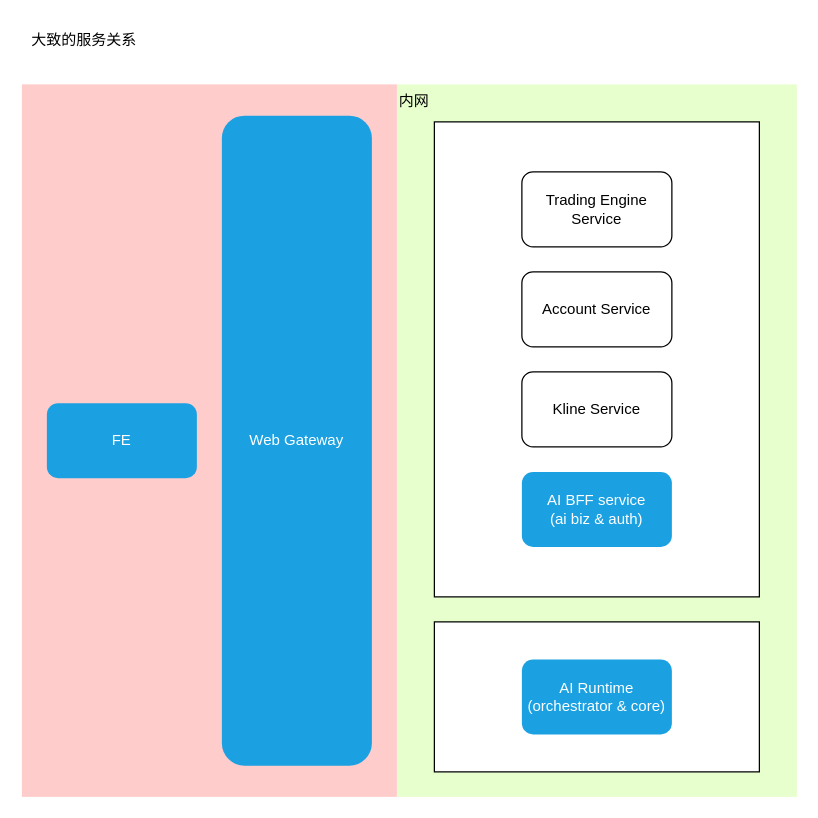
Some shapes in this 818 by 818 pixel diagram are drawn without their labels. The shapes that lost their labels are listed below. From the top down, each one's box as (x1, y1, x2, y2) in pixels, then its label:
(433, 121, 759, 597): 业务网段
(21, 84, 396, 796): 公网
(433, 621, 759, 772): AI 网段
